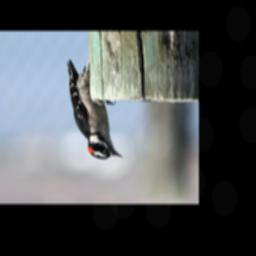Woodpecker: (66, 60, 123, 160)
